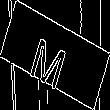M_N: (33, 23, 77, 87)
